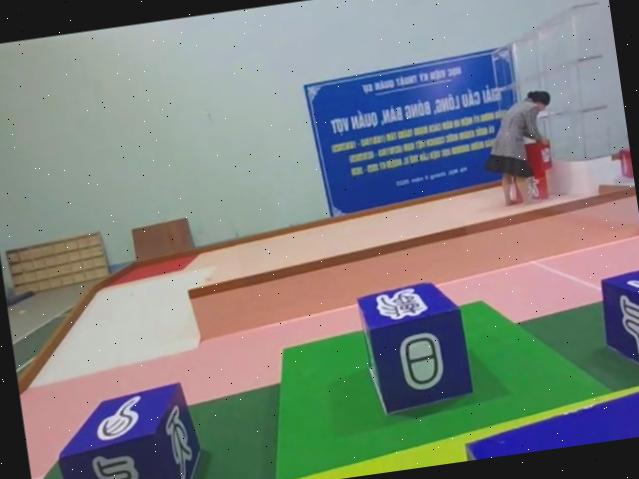R2 Fake Blue: (350, 279, 473, 421), (47, 382, 207, 479), (597, 267, 639, 392)
